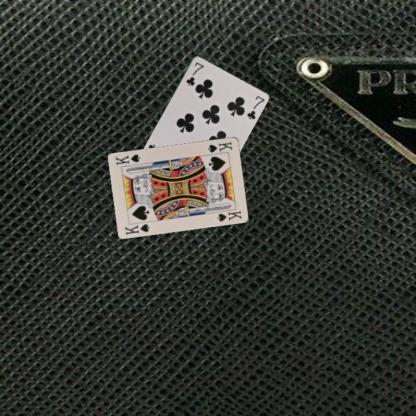7c: (183, 60, 205, 86)
Ks: (205, 138, 234, 154), (122, 221, 151, 236)
